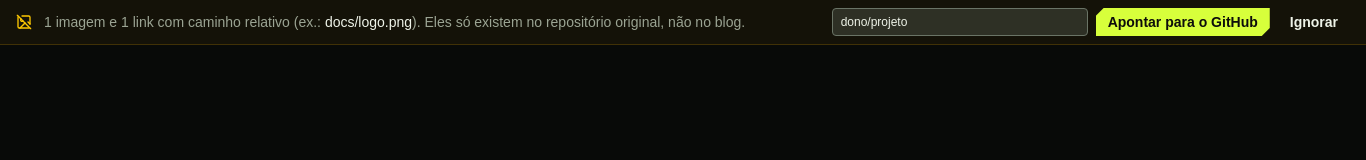
Scenario: <RelativeMediaNotice /> › desabilita o botão com repositório inválido
This screenshot has width=1366, height=160.
Replace the text in the field named "Repositório do GitHub de onde o texto veio" with "isso não é repo" at (960, 22), box top-left (832, 8), bottom-right (1088, 36)
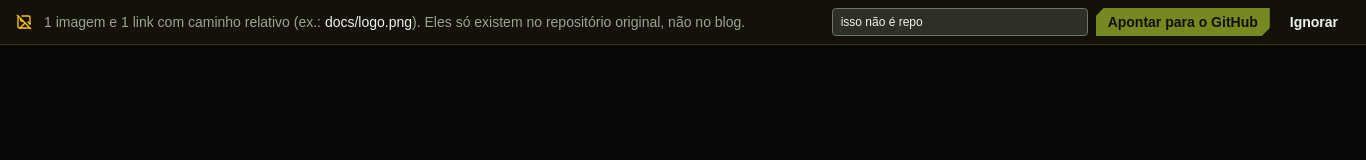
Check: the button "Apontar para o GitHub" is disabled, box top-left (1096, 8), bottom-right (1270, 36)
